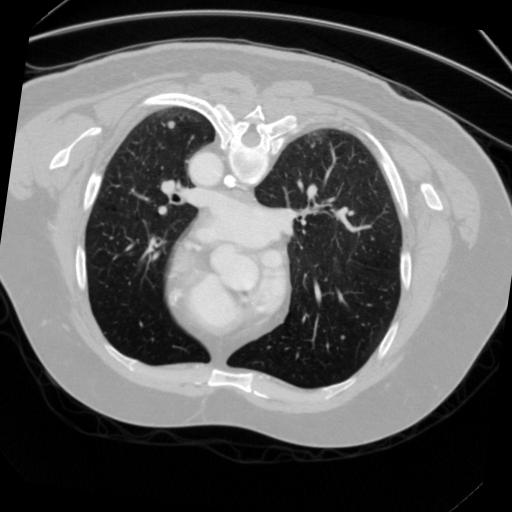nodule: (166, 118, 181, 133)
